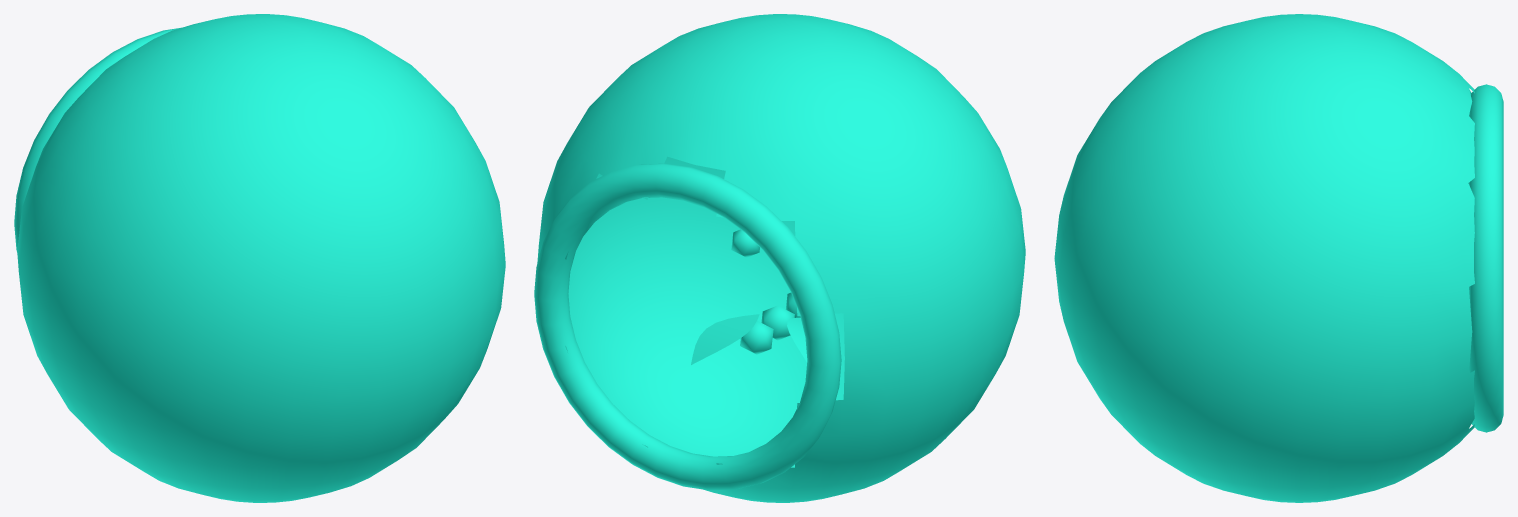
The model's file is micela-nueva.glb.
3 renders of one model, left to right at view 1: azimuth 30°, elevation 25°; view 2: azimuth 150°, elevation 25°; view 3: azimuth 270°, elevation 25°, orthographic.
Parts seen in each view (by area): view 1: MicelaNueva; view 2: MicelaNueva; view 3: MicelaNueva.
Part boxes in pixels (box(x1,y1,x2,y2)): MicelaNueva: box(14, 14, 505, 502); MicelaNueva: box(534, 14, 1025, 502); MicelaNueva: box(1054, 14, 1503, 502).
Size of the model in its own units: 2 by 2 by 1.83.
